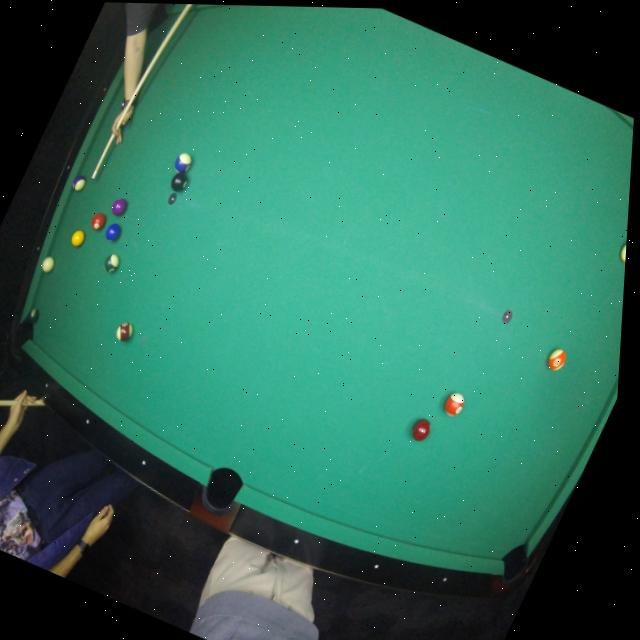cue ball: (37, 254, 57, 277)
other: (437, 388, 468, 422), (404, 414, 436, 446), (542, 344, 569, 374), (165, 168, 191, 194), (170, 150, 194, 176), (98, 251, 122, 277), (108, 194, 131, 220), (102, 220, 124, 245), (113, 320, 135, 344), (612, 235, 627, 268), (87, 210, 108, 233), (67, 226, 88, 249), (22, 305, 42, 328), (69, 171, 88, 193)
